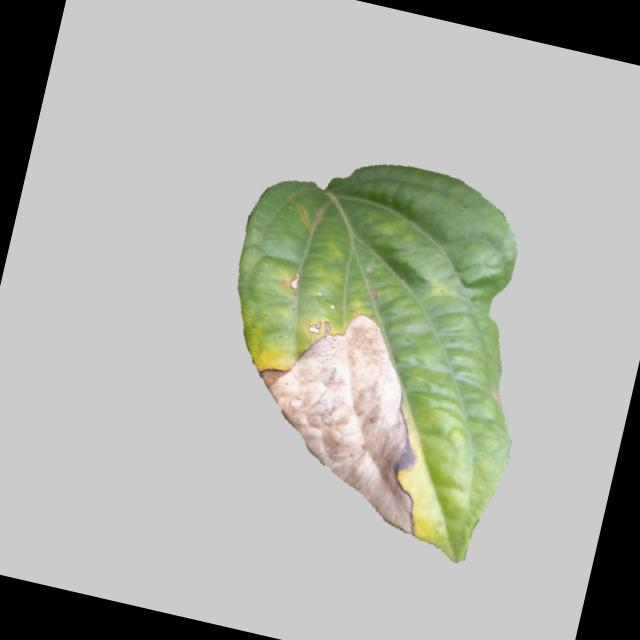leaf-blight: (178, 132, 576, 564)
